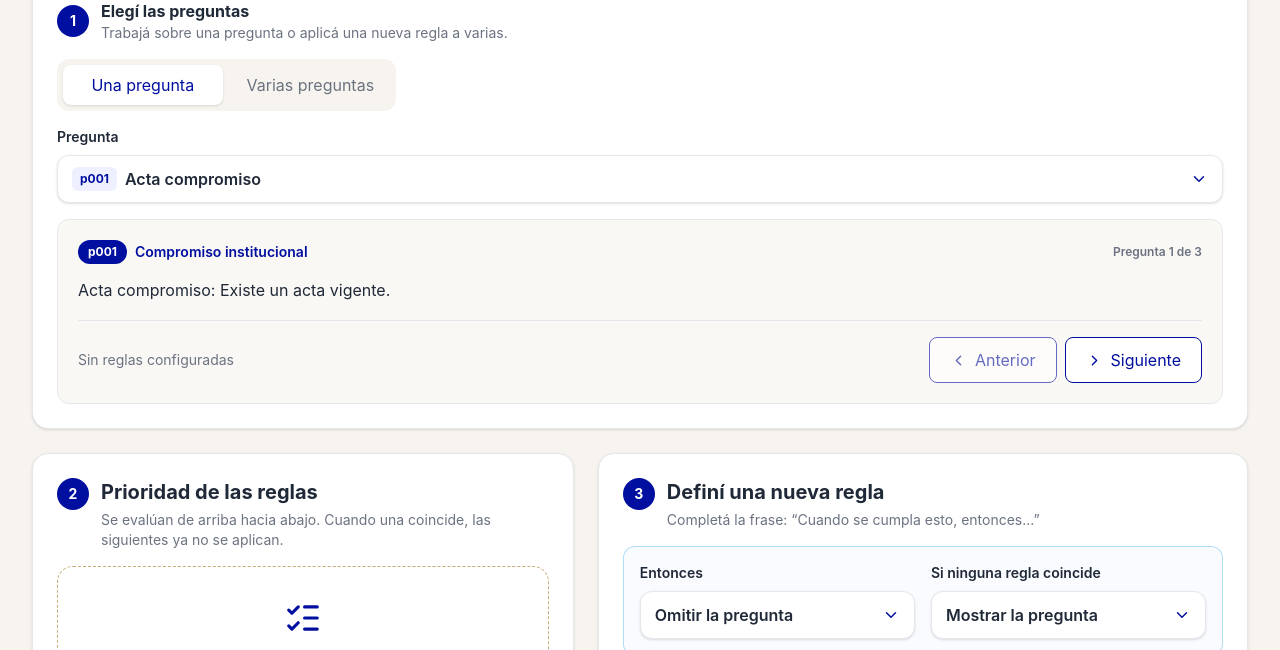
Test case: SurveyApplicabilityRulesPage › navega entre preguntas, conserva la URL y no vuelve a cargar la versión
(page scrolled)
Expected: the text "Pregunta 1 de 3" is shown, left=1113, top=244, right=1202, bottom=260
Expected: the button "Anterior" is disabled, left=929, top=337, right=1056, bottom=383
What coordinates should you click on to do the following:
click the button "Siguiente"
I would click on:
 (1133, 360)
Its box is left=1064, top=337, right=1202, bottom=383.
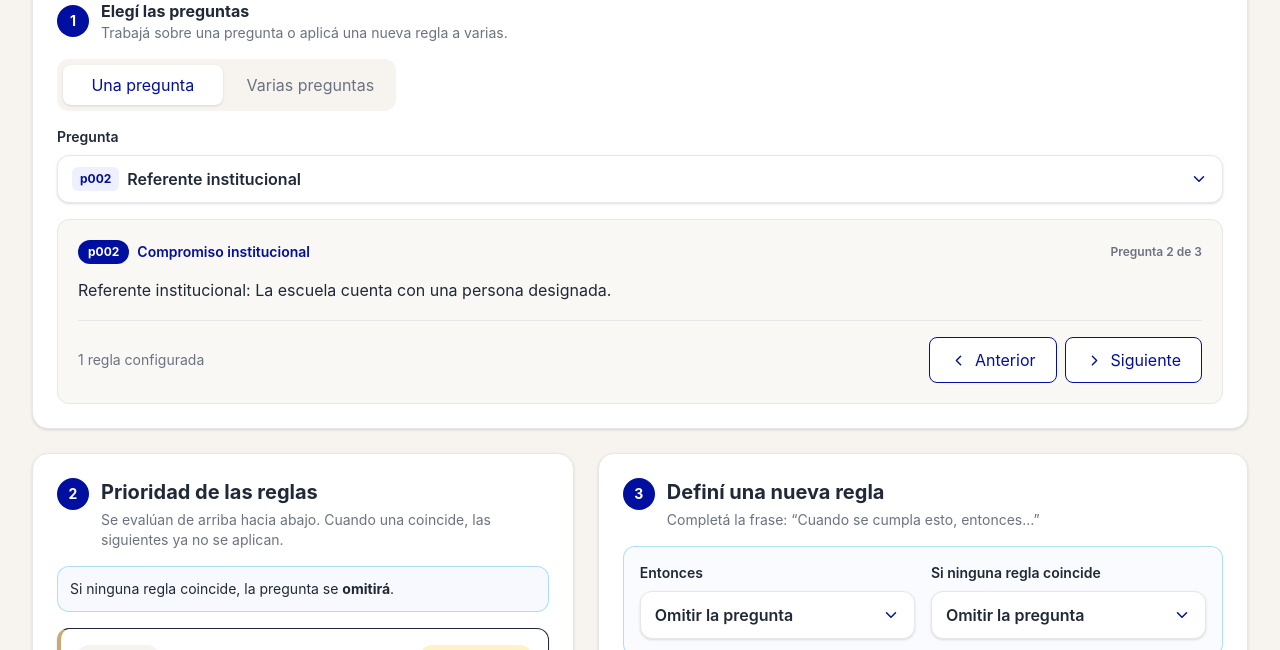
Now the text "Pregunta 2 de 3" is shown, box left=1110, top=244, right=1202, bottom=260
What coordinates should you click on to do the following:
click the button "Siguiente"
I would click on:
 (1133, 360)
Its box is left=1064, top=337, right=1202, bottom=383.
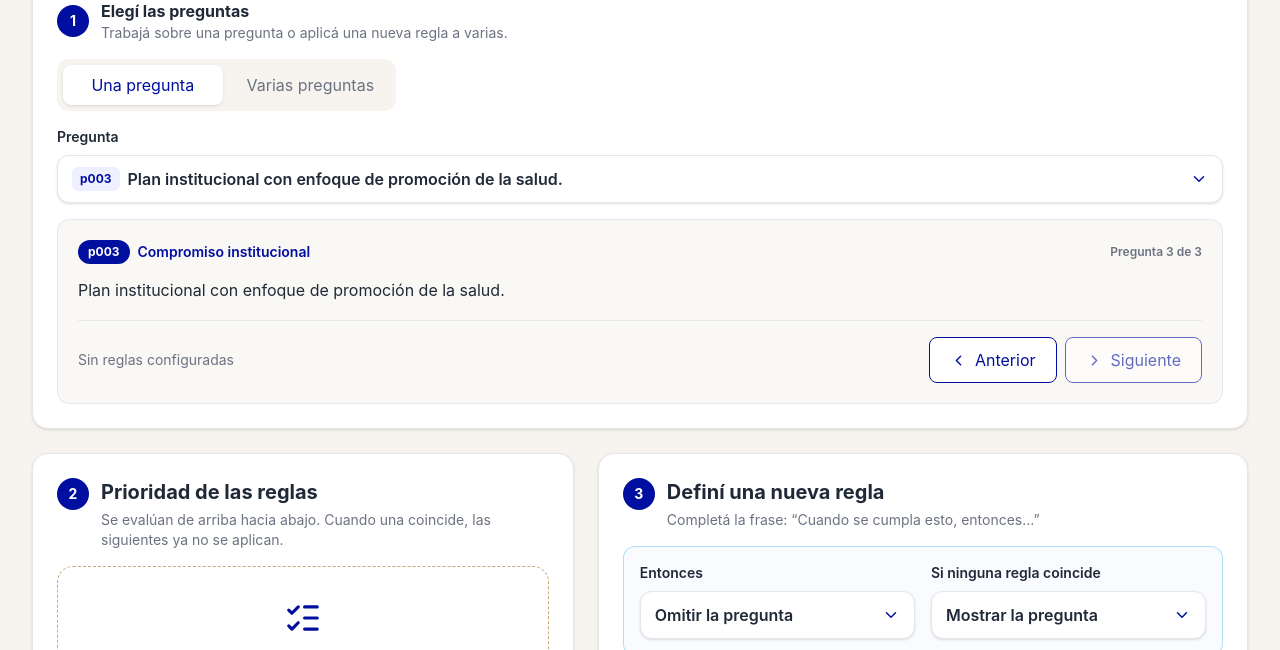
Now the text "Pregunta 3 de 3" is shown, box left=1110, top=244, right=1202, bottom=260
Now the button "Siguiente" is disabled, box left=1064, top=337, right=1202, bottom=383
